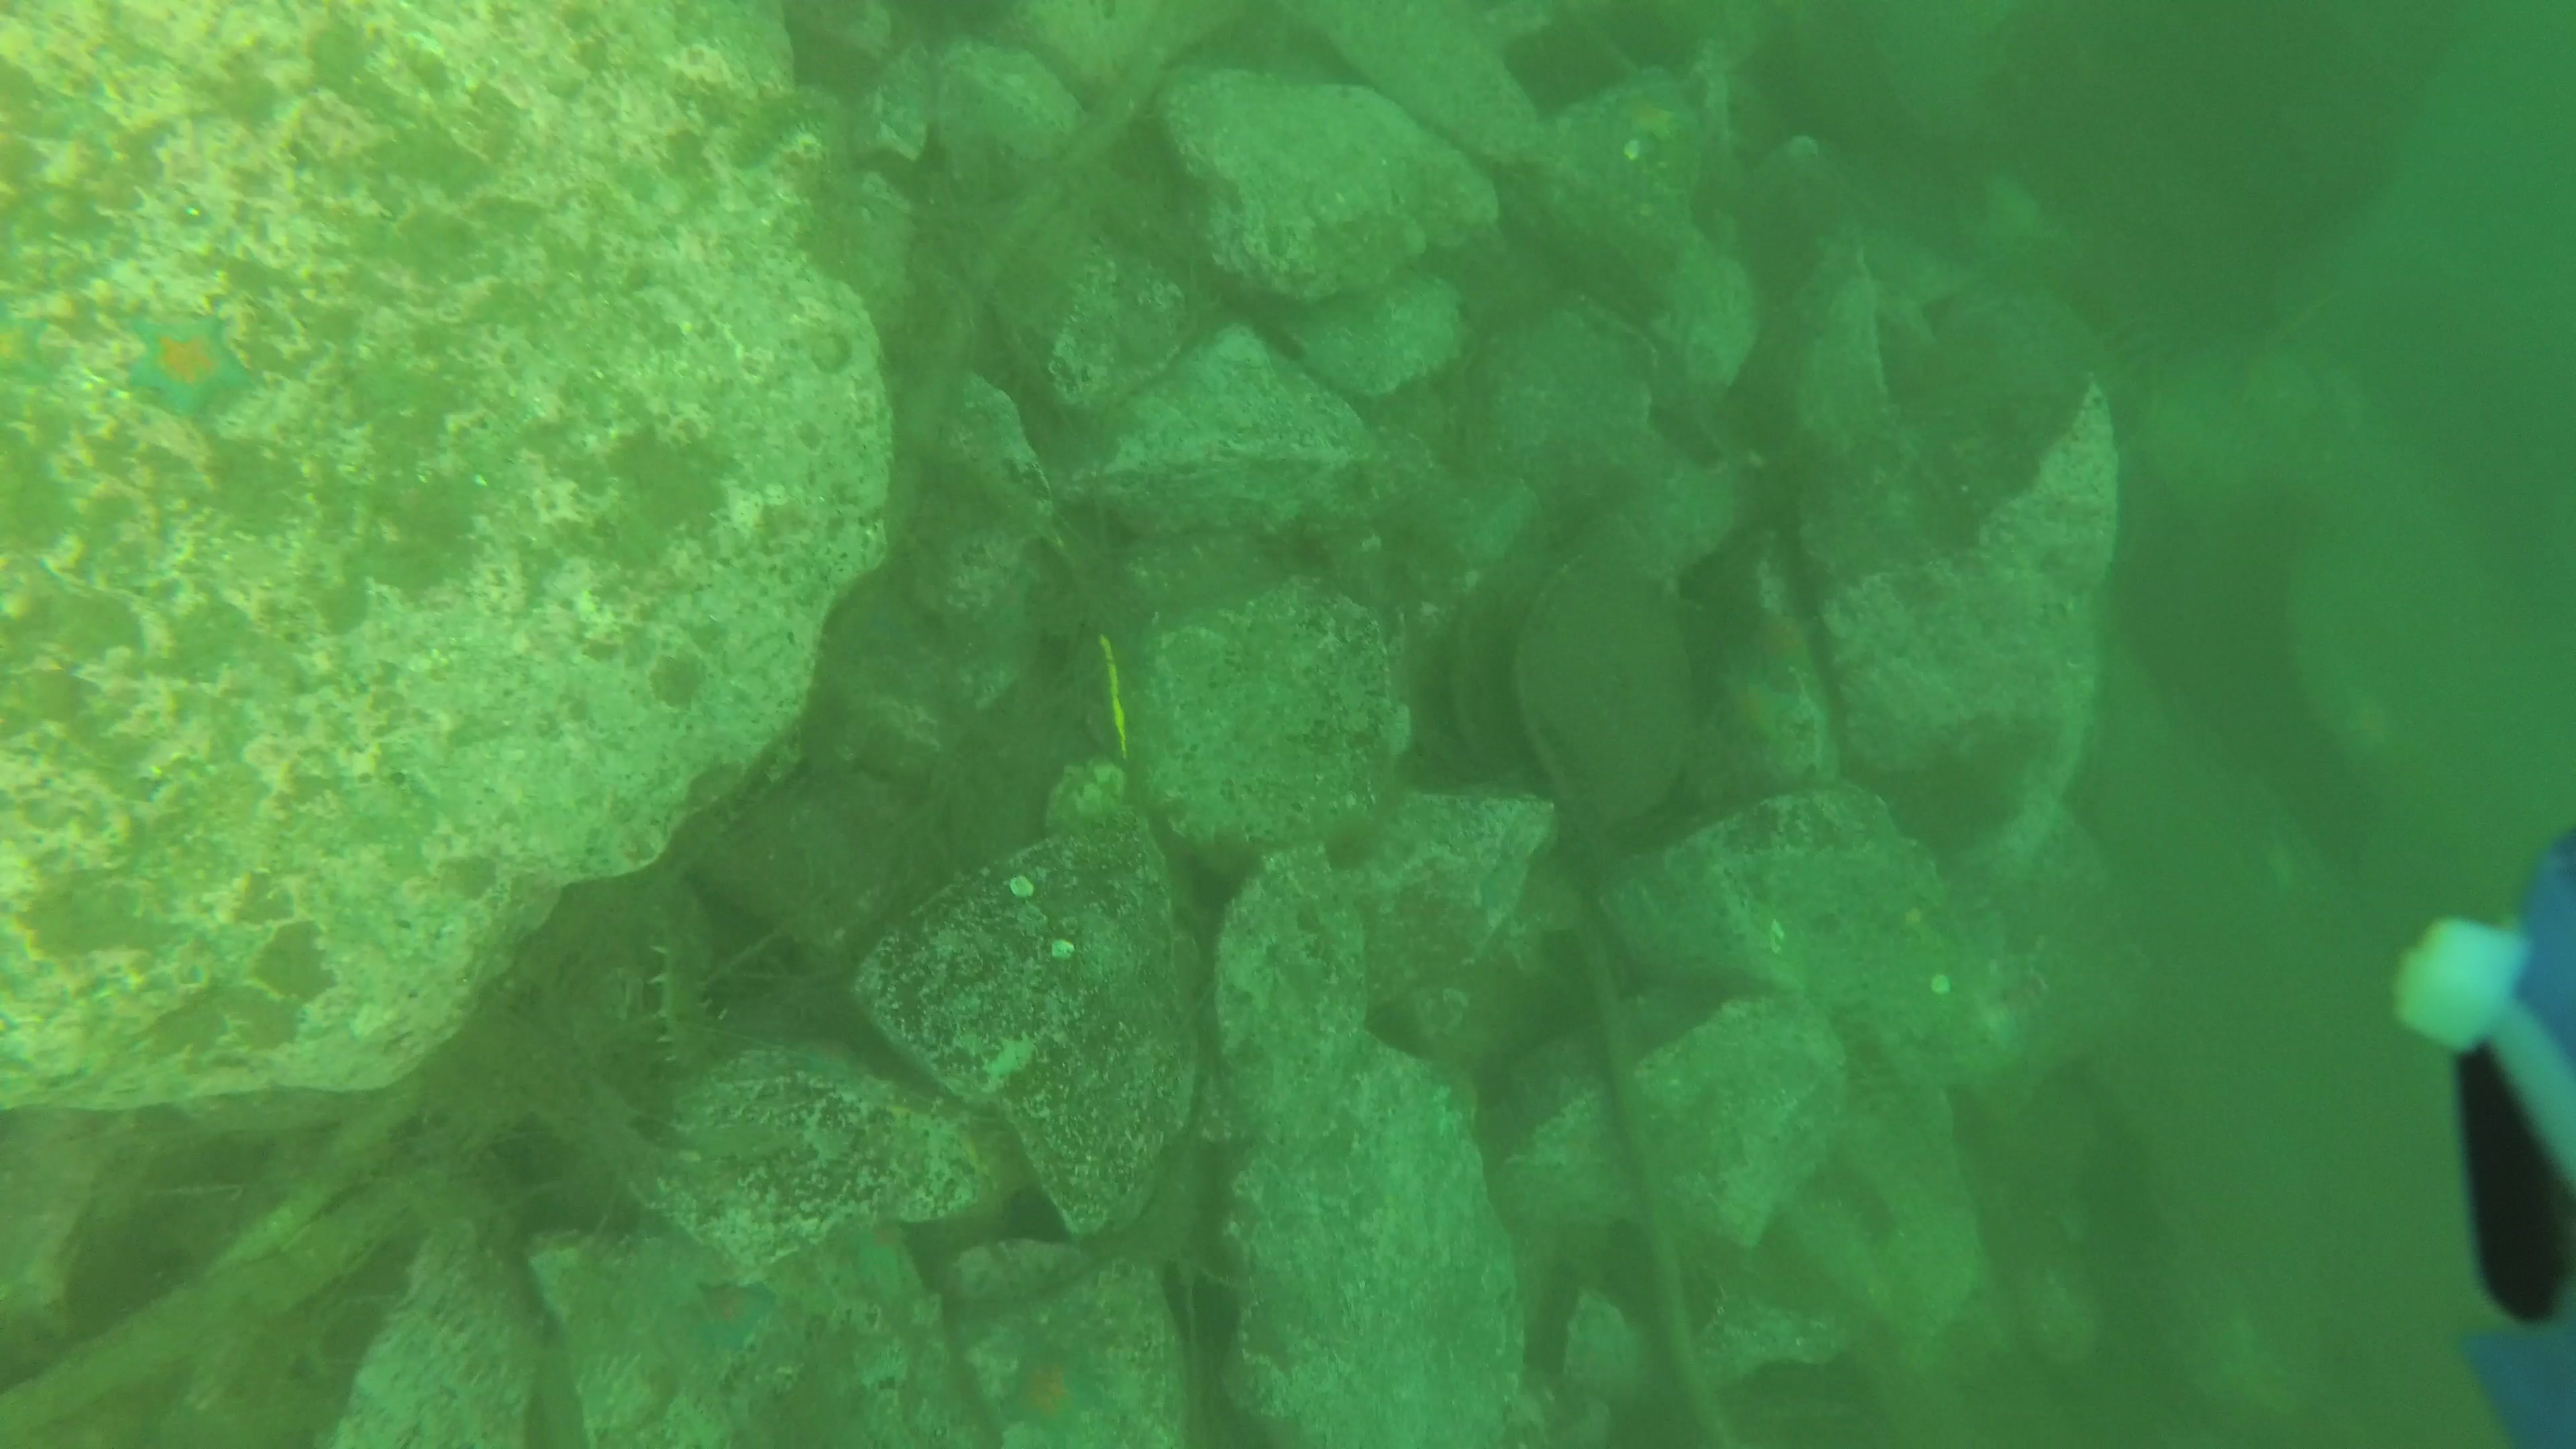holothurian: (649, 881, 734, 1081)
starfish: (120, 311, 255, 426), (2, 297, 53, 386)
